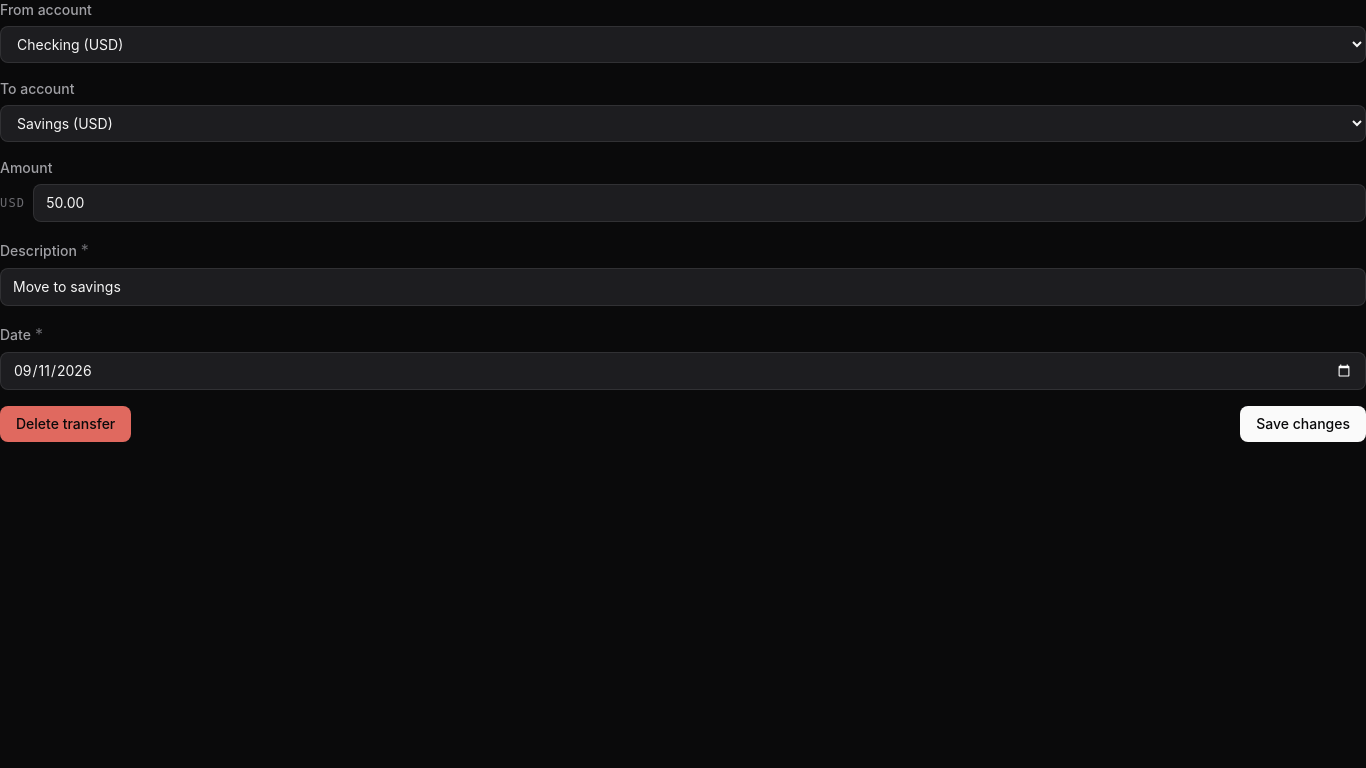
Scenario: TransferForm — edit › cancelling the delete confirmation does not delete the transfer
This screenshot has width=1366, height=768.
Click the button "Delete transfer". click: (66, 424)
box: x1=0 y1=406 x2=131 y2=442
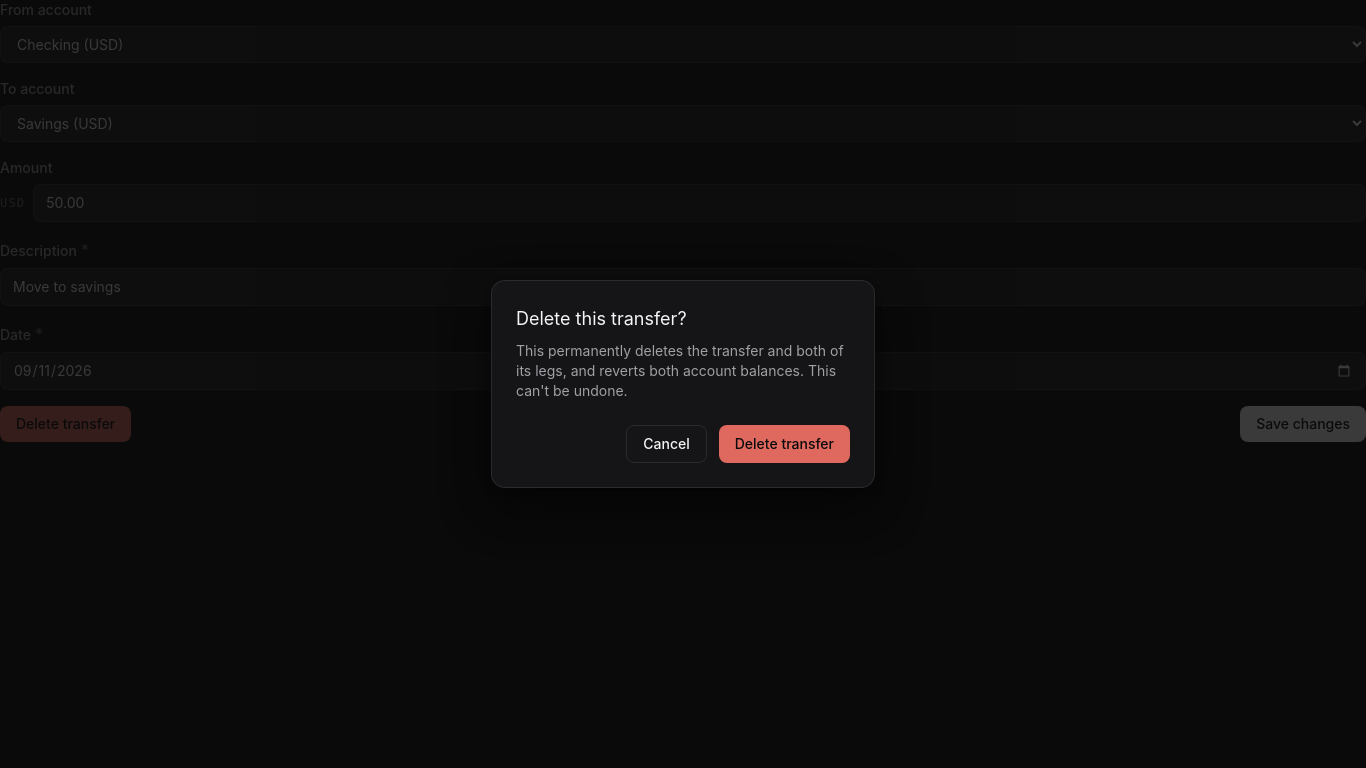
Click the button "Cancel". click: (667, 444)
box: x1=626 y1=425 x2=707 y2=463
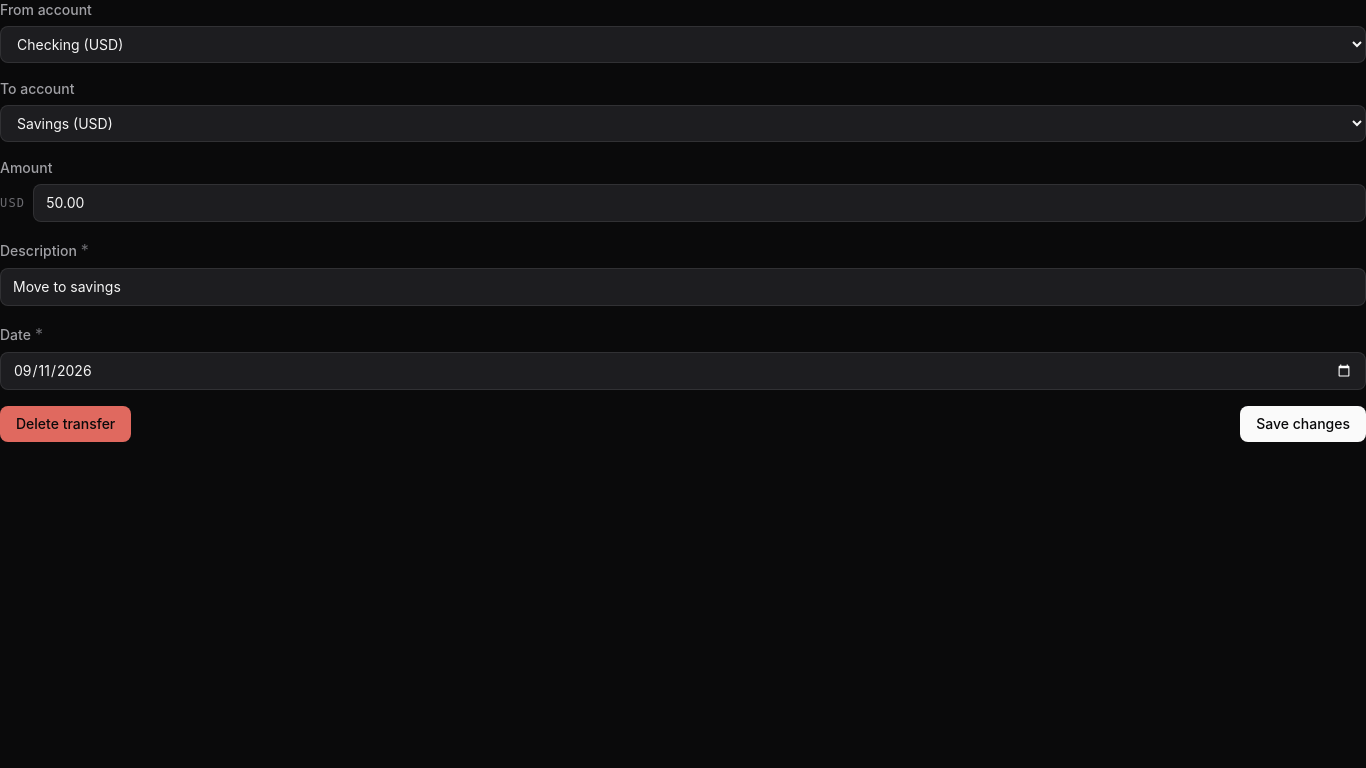
expect the dialog is gone: met
